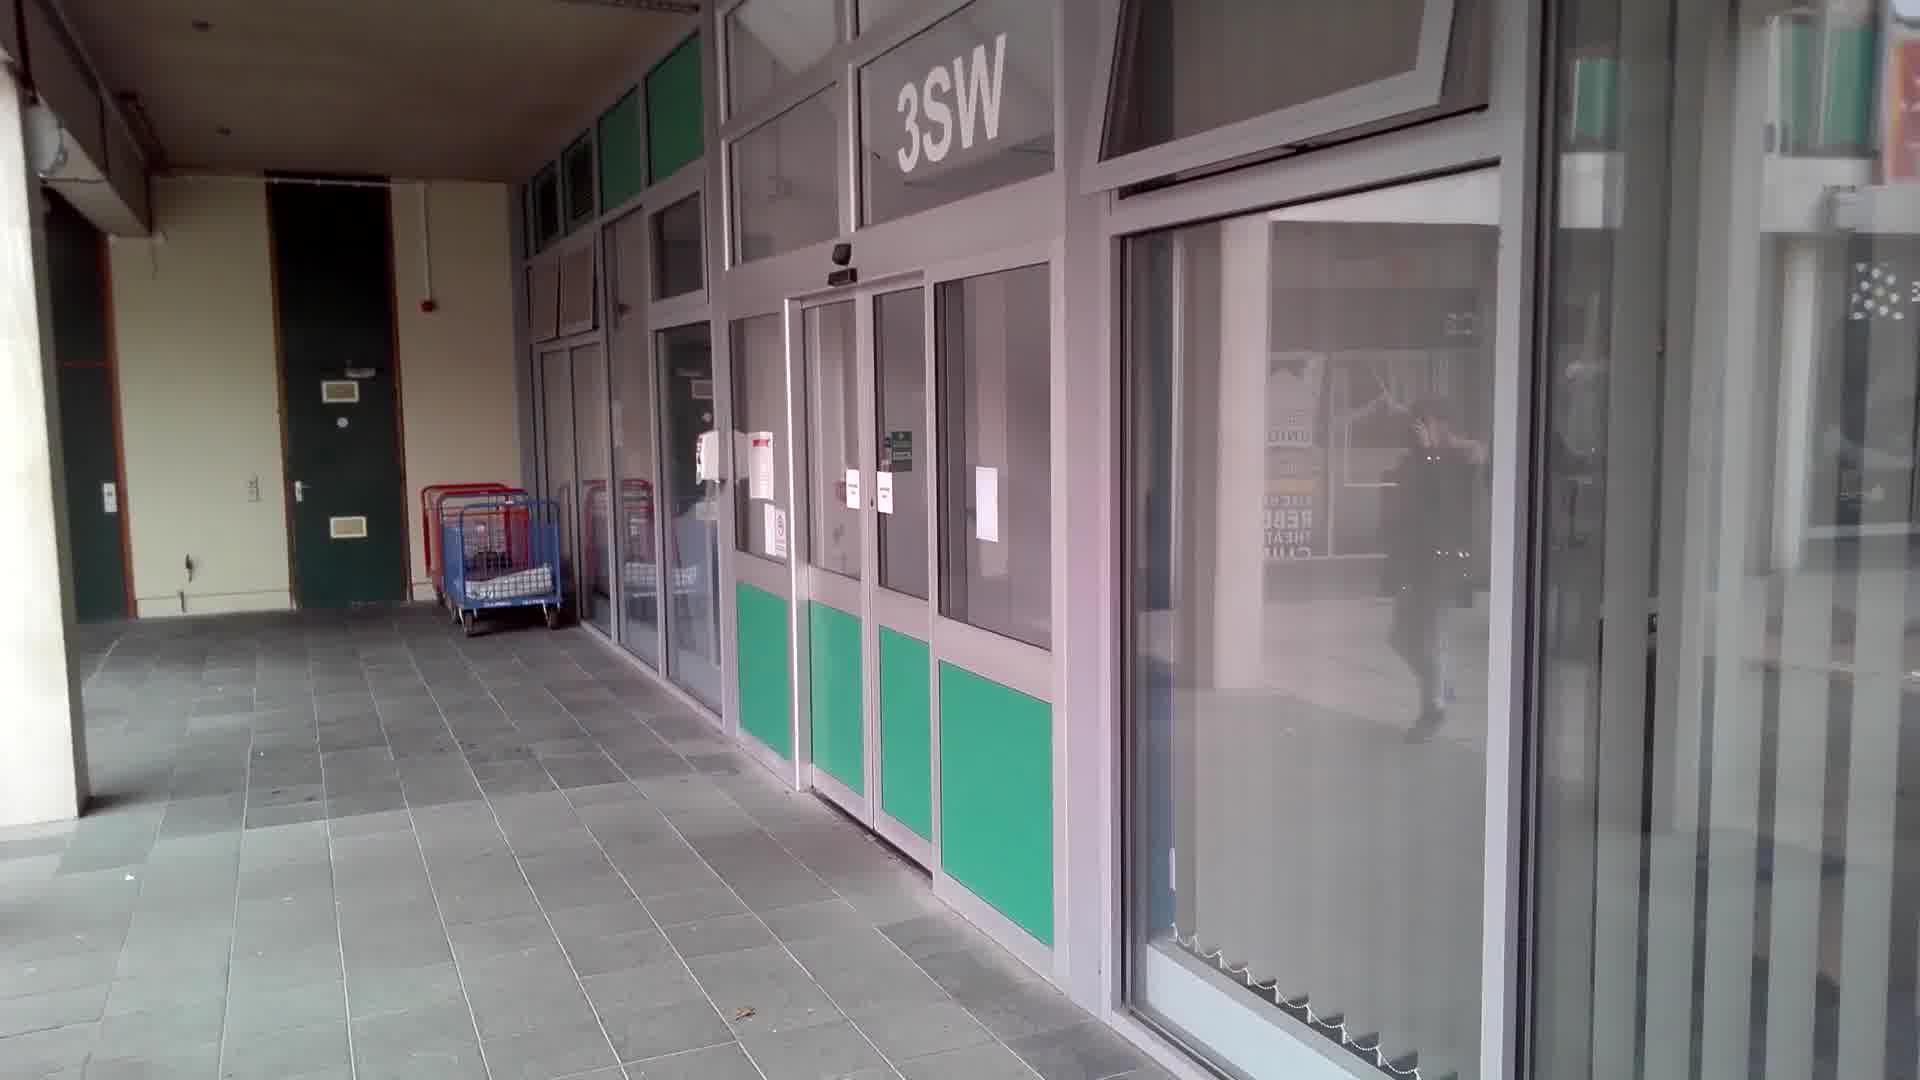Door: (785, 273, 948, 882)
